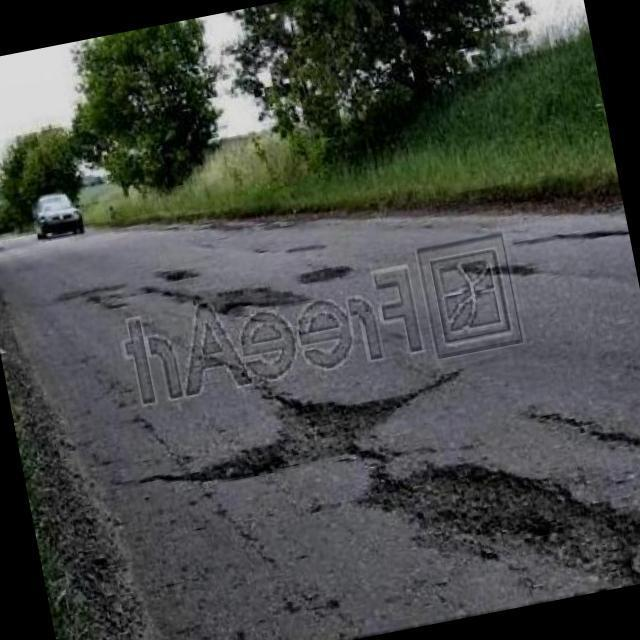Pothole: (139, 371, 463, 484), (369, 464, 640, 592)
